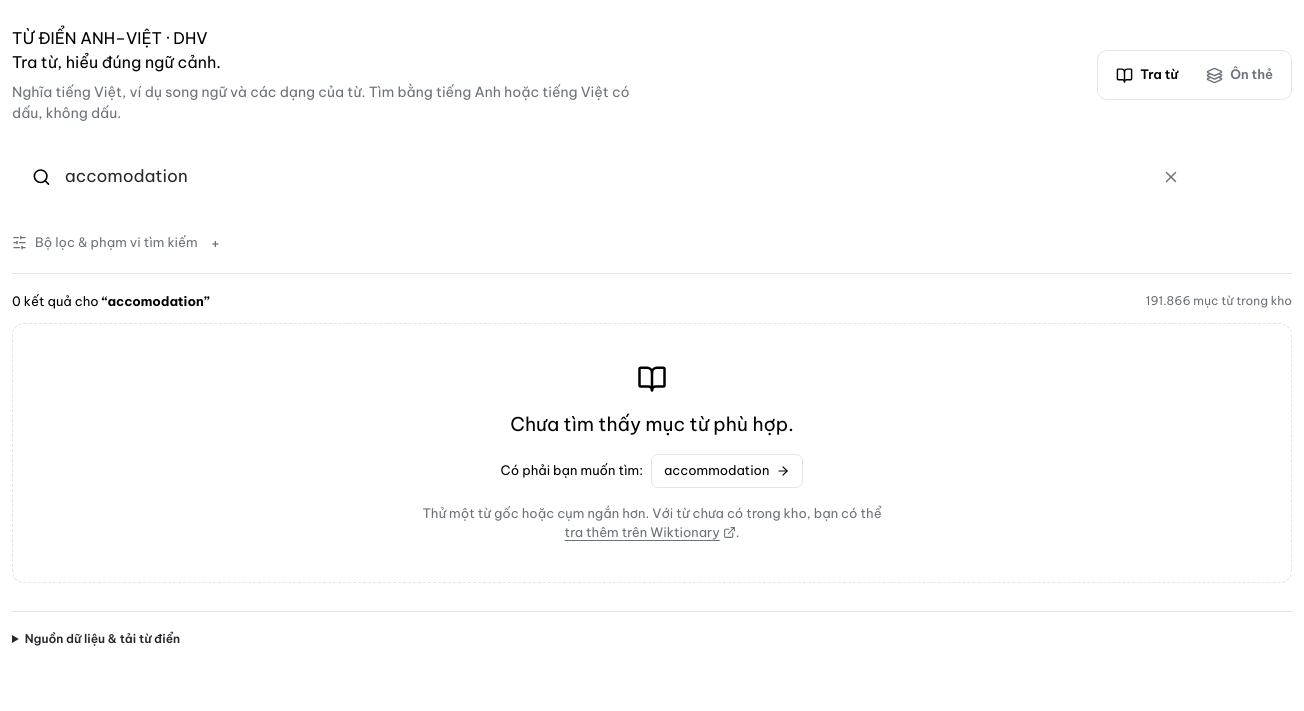
it: offers an explicit spelling correction without silently changing the submitted query
Click the button "accommodation" at (727, 471), box [651,454,803,488]
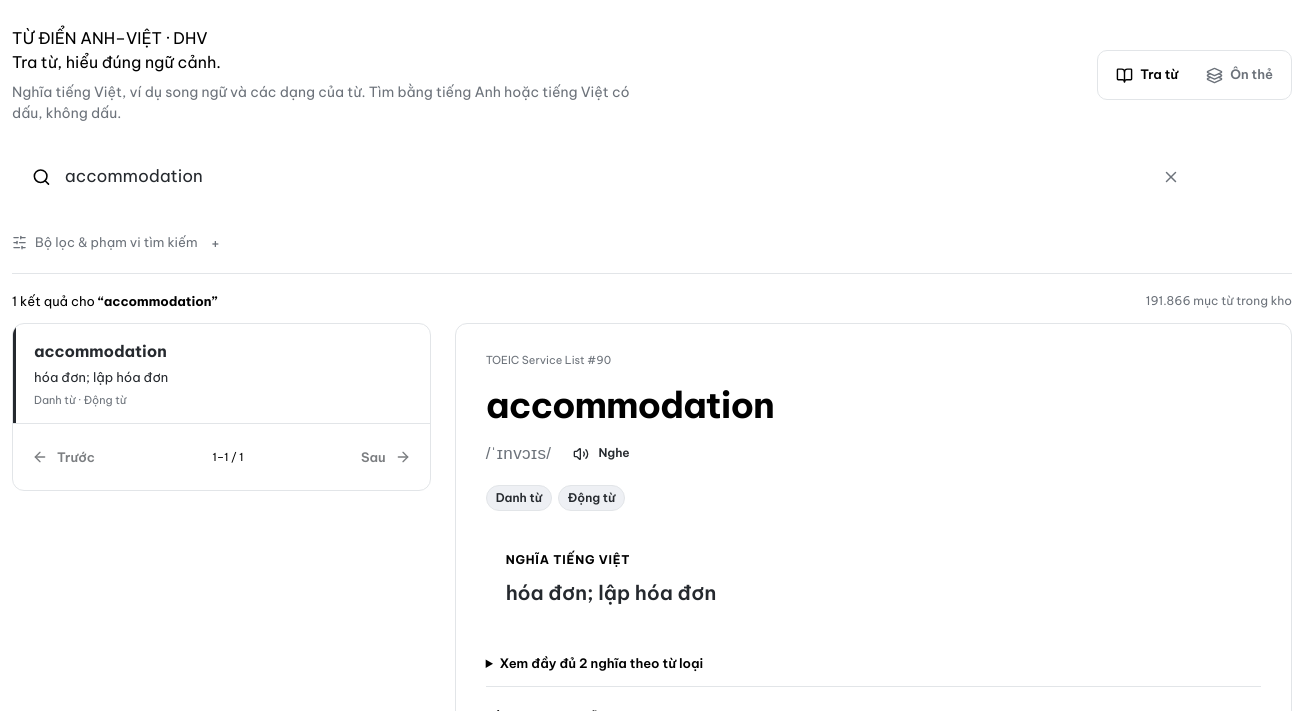
Now the heading "accommodation" is shown, box [486,382,774,428]
Now the search field named "Tìm từ tiếng Anh hoặc nghĩa tiếng Việt" holds "accommodation", box [65,152,1138,202]
